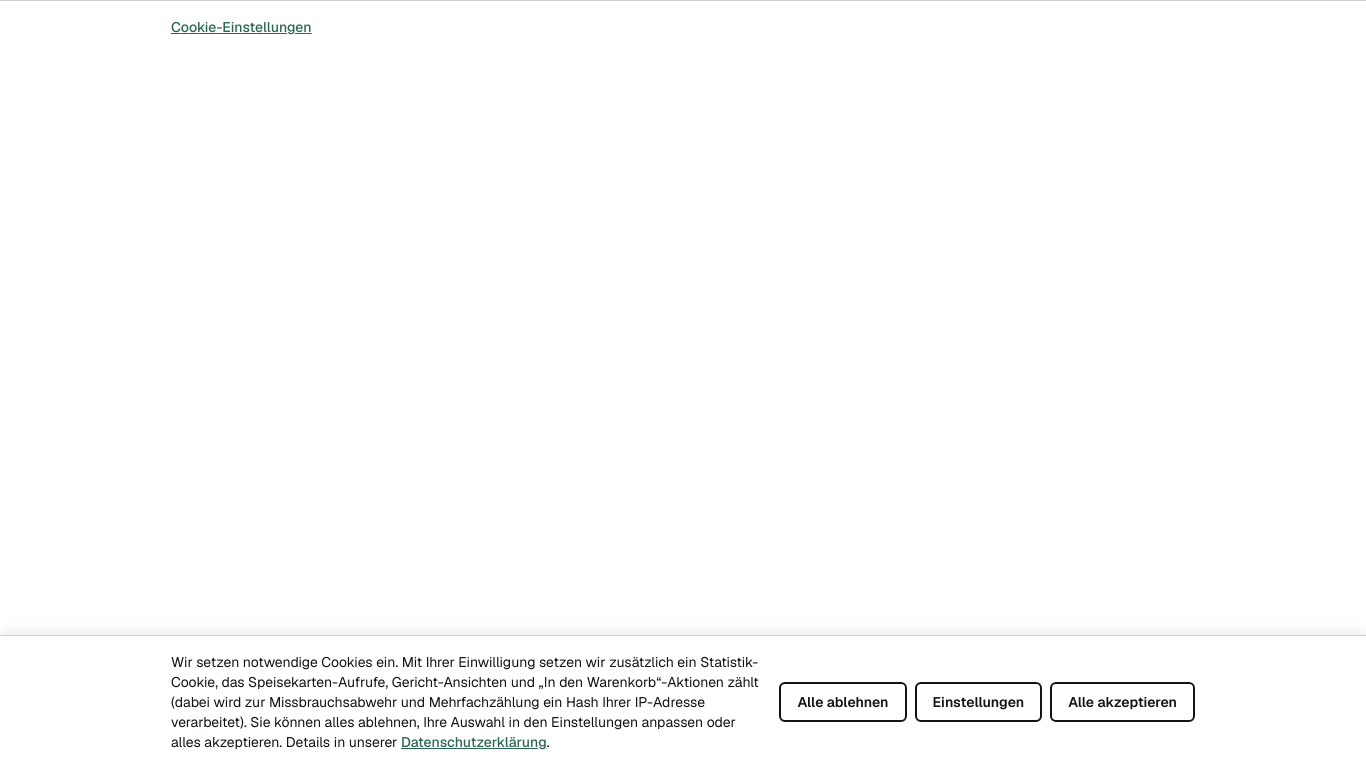
Test: CookieConsentBanner first level › 'Alle akzeptieren' stores statistics=true
Click the button "Alle akzeptieren" at point(1123, 702), box left=1050, top=682, right=1195, bottom=722
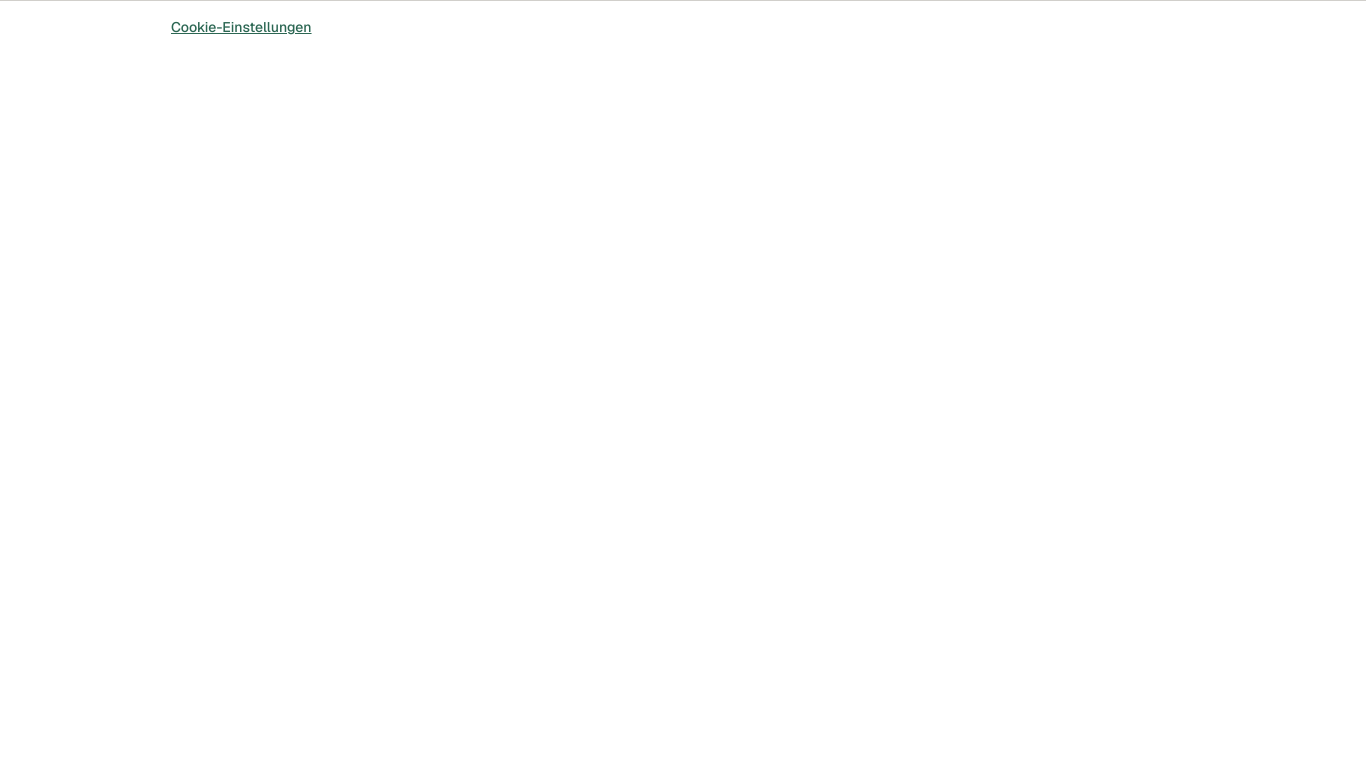
Check: the element "Cookie-Hinweis" is gone
